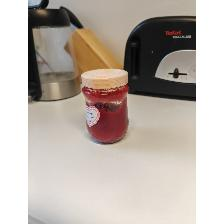Marmelade: (80, 68, 130, 146)
